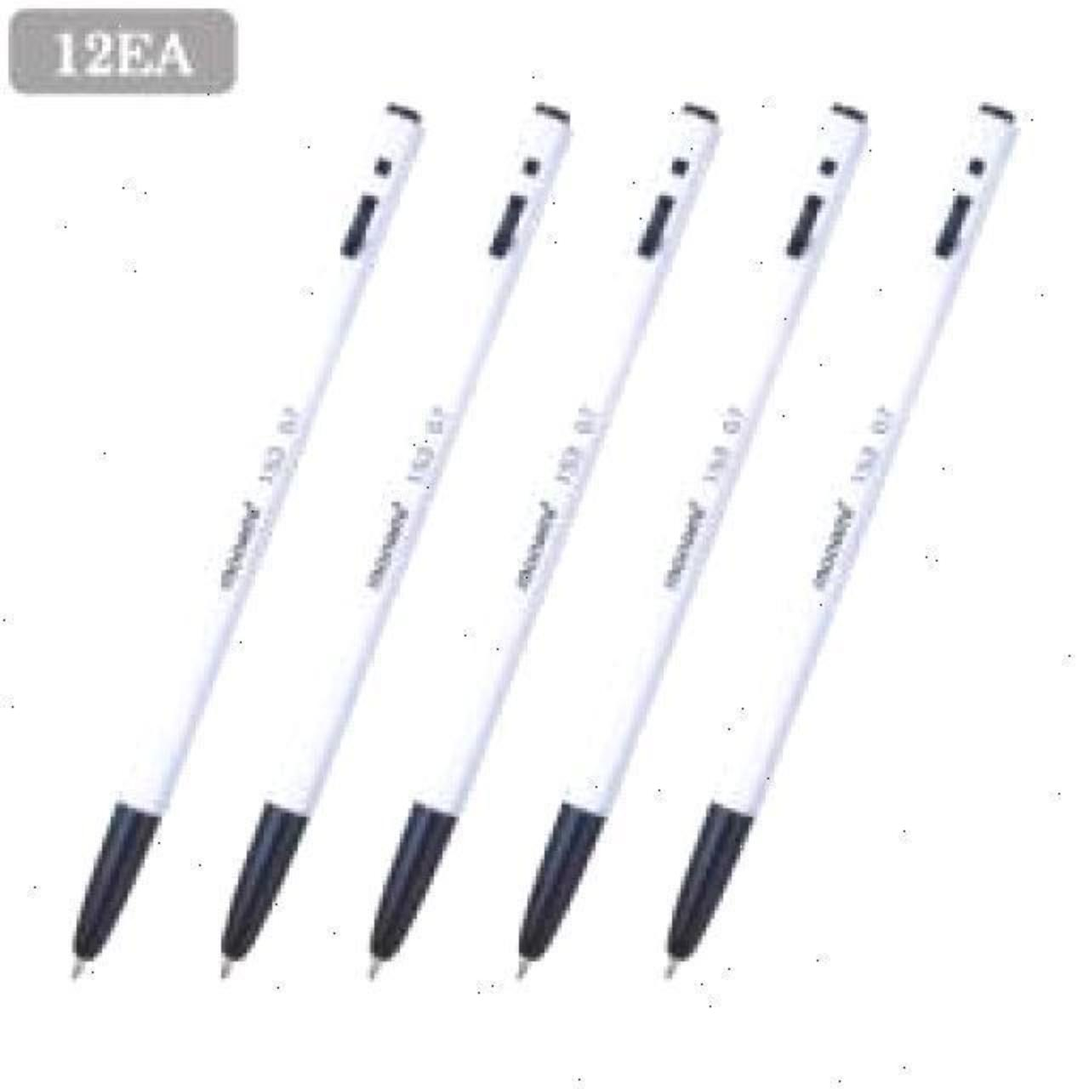pen: (63, 99, 434, 984), (510, 102, 881, 984), (213, 99, 579, 984), (366, 102, 728, 978), (672, 102, 1021, 978)
